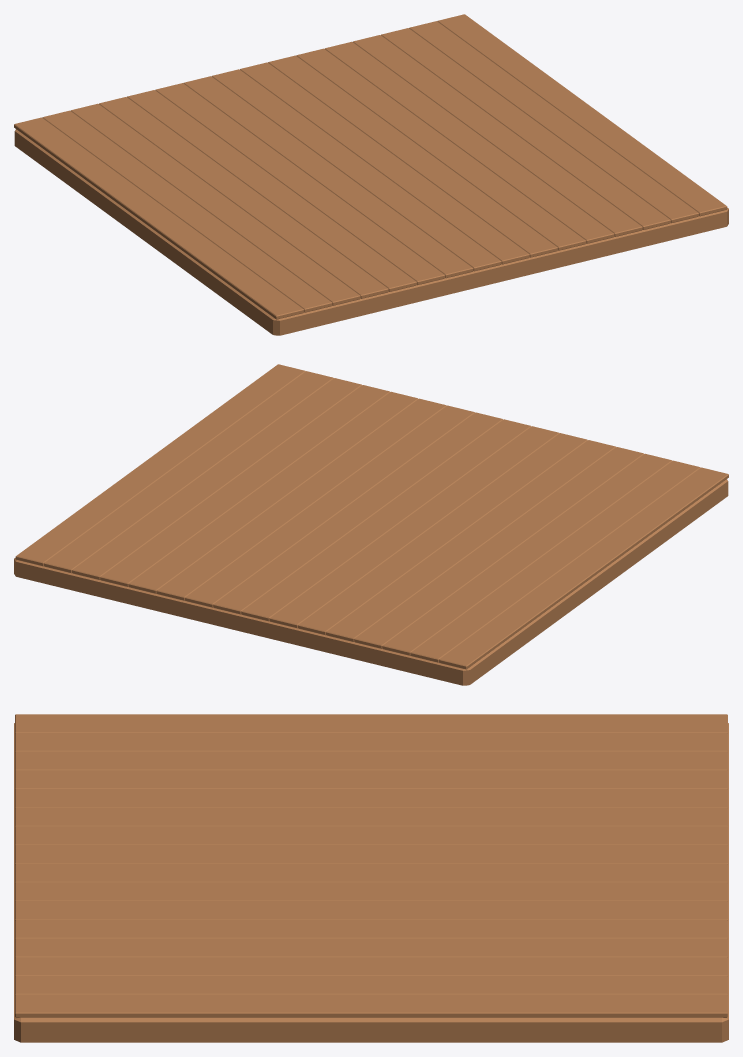
File: floor.fbx
3 renders of one model, top to bottom at view 1: azimuth 30°, elevation 25°; view 2: azimuth 150°, elevation 25°; view 3: azimuth 270°, elevation 25°, orthographic. The views are drawn at different scales.
Parts seen in each view (by area): view 1: Floor; view 2: Floor; view 3: Floor.
Part boxes in pixels (bbox=[...]): Floor: bbox=[14, 14, 728, 335]; Floor: bbox=[14, 364, 728, 685]; Floor: bbox=[14, 714, 728, 1042].
Size of the model in its own units: 1000 by 46.4 by 1000.
